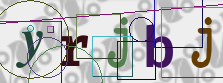b: (145, 24, 174, 69)
j: (191, 16, 214, 69), (107, 16, 129, 68)
r: (60, 34, 89, 67)
y: (15, 30, 45, 67)
